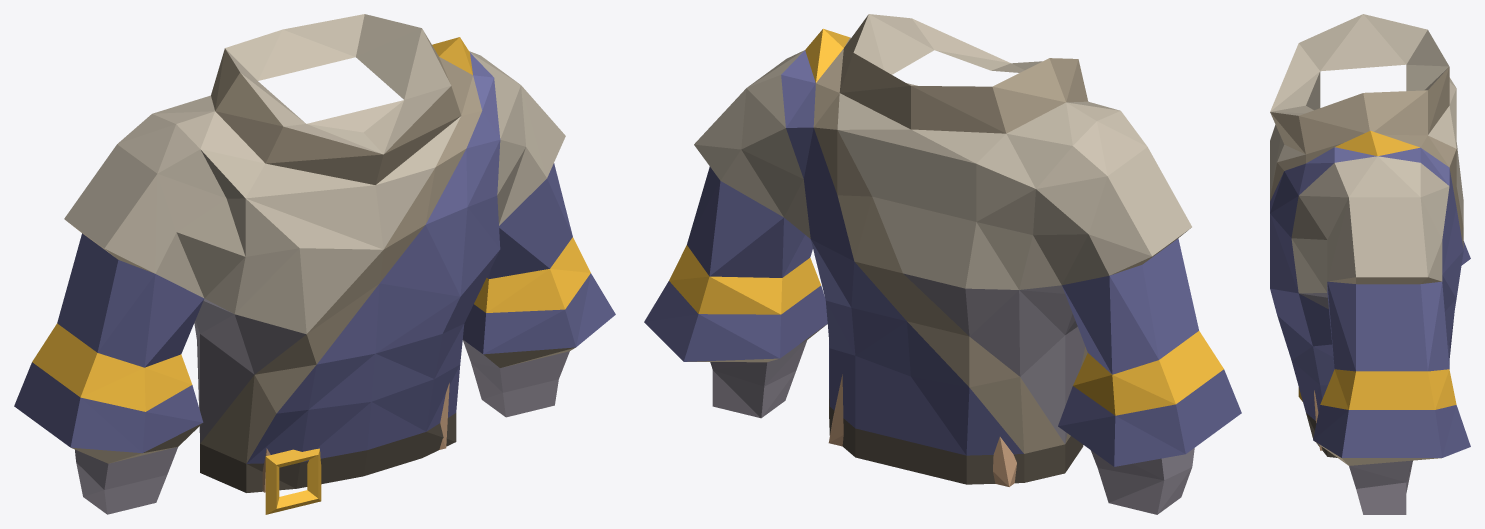
The model's file is player_ancestral_robe_top.glb.
The picture shows the model from 3 angles, left to right: view 1: azimuth 30°, elevation 25°; view 2: azimuth 150°, elevation 25°; view 3: azimuth 270°, elevation 25°; orthographic projection. The views are drawn at different scales.
Bounding box in the file's own units: 78 × 57.01 × 27.99.
1 material, 1 textured.
